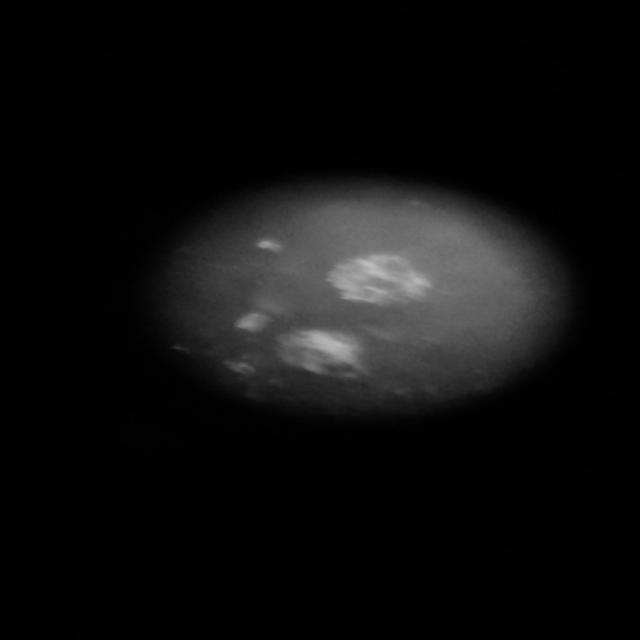alexandrium: (274, 318, 368, 378), (332, 256, 434, 302)
